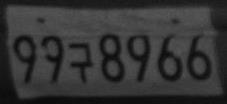6: (157, 32, 184, 82), (185, 31, 212, 81)
8: (98, 32, 126, 83)
9: (11, 34, 38, 83), (127, 33, 151, 83), (41, 34, 64, 83)
구: (68, 41, 95, 83)
